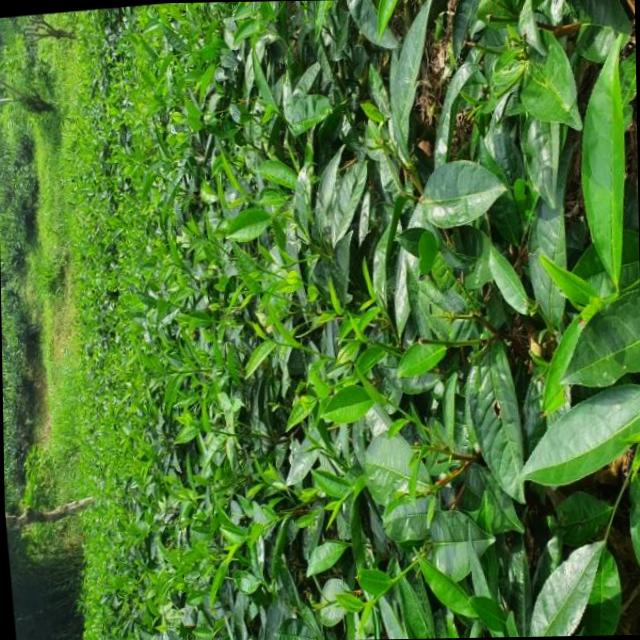Stem: (372, 598, 375, 601), (275, 342, 278, 345)
